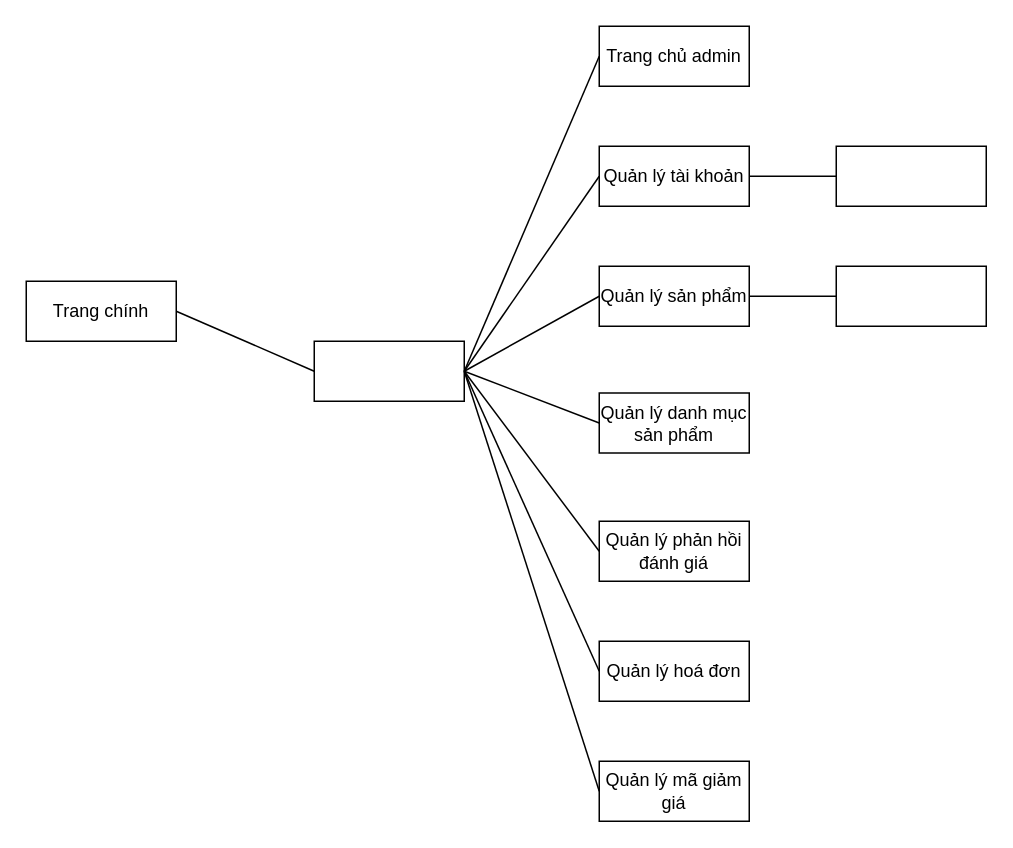
This 1013x848 diagram has some shape labels left out. The centre of each missing label's shape, as x and y in pixels:
"thêm/xoá tài khoản" goes at point (910, 175).
"thêm/xoá/sửa sản phẩm" goes at point (910, 295).
"Đăng nhập/ đăng ký" goes at point (388, 370).
